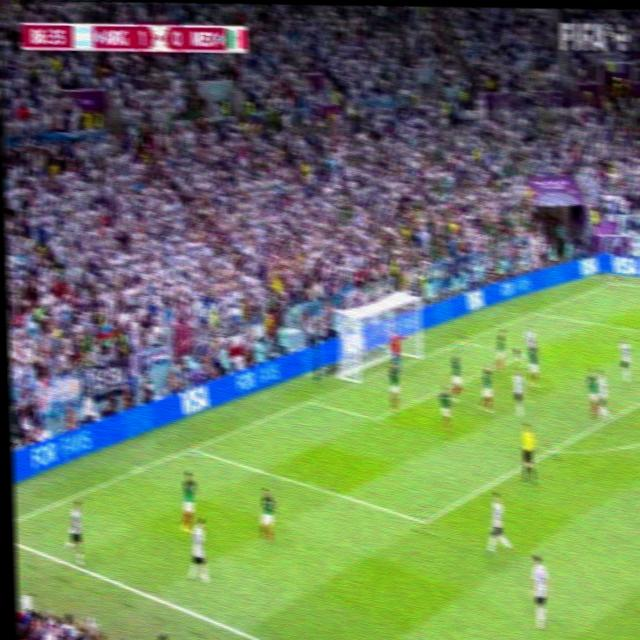bigarea_bottom_inner: (412, 505, 437, 536)
bigarea_bottom_outter: (180, 435, 202, 458)
bigarea_top_outter: (527, 302, 543, 320)
bottom_arc_area_intersection: (542, 438, 563, 460)
corner: (605, 275, 621, 288)
smallarea_bottom_inner: (366, 407, 385, 427)
smallarea_bottom_outter: (301, 390, 321, 410)
smallarea_top_inner: (514, 345, 530, 362)
smallarea_top_outter: (454, 331, 472, 349)
